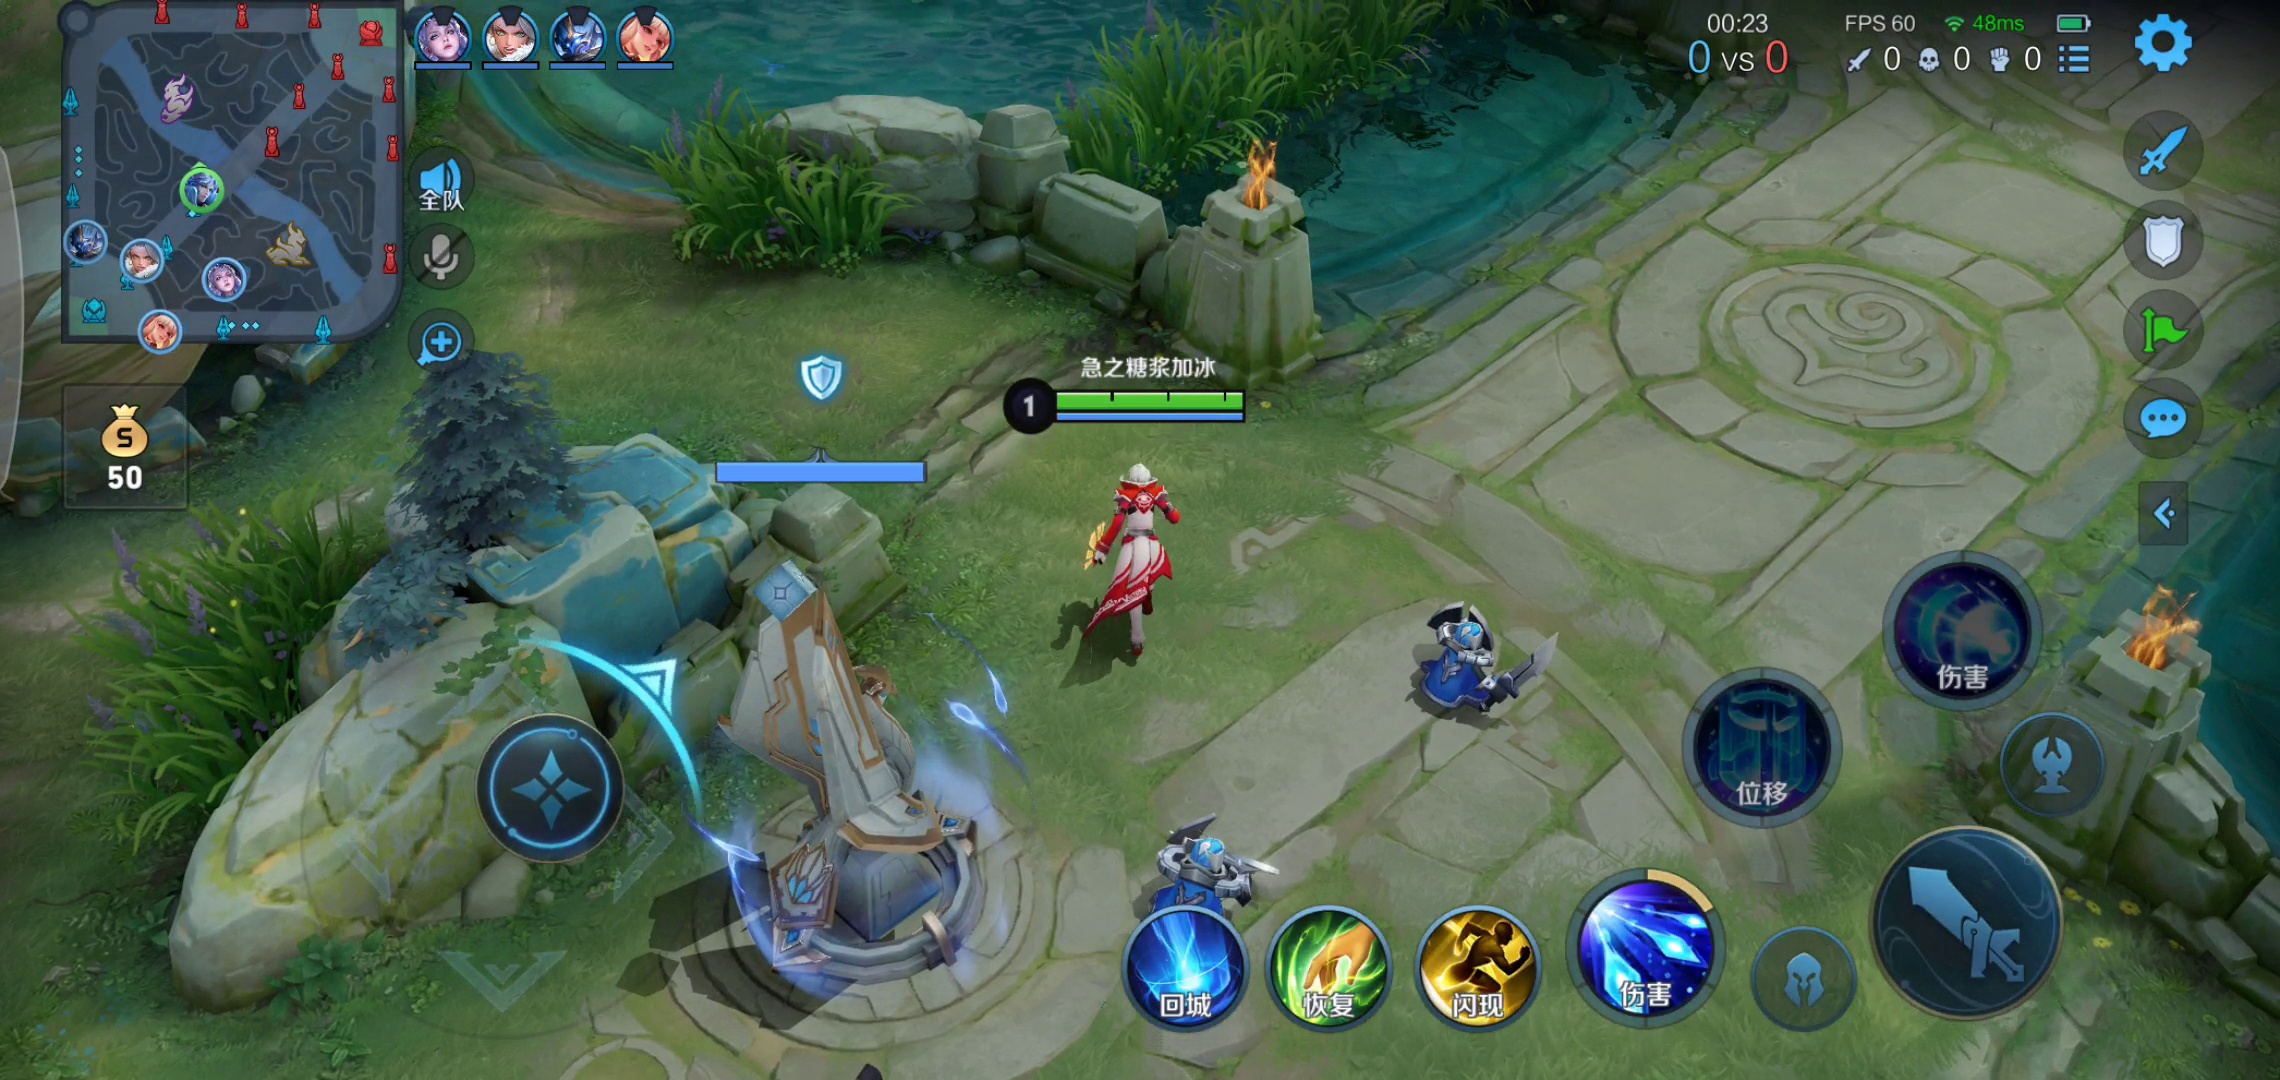grass: (57, 515, 378, 817), (1035, 9, 1441, 150), (644, 94, 902, 304)
hero: (1060, 448, 1205, 661)
soldier: (1393, 581, 1573, 734), (1136, 792, 1290, 959)
tower: (686, 568, 1015, 987)
